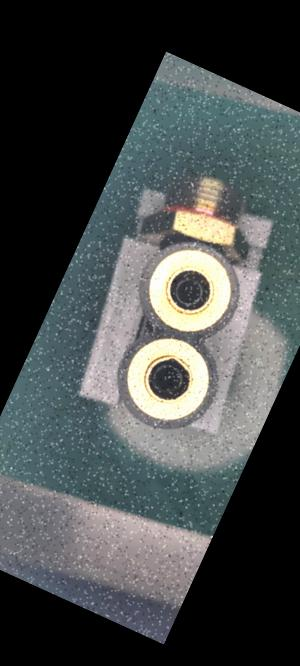bump: (162, 347, 191, 369)
off-centered: (141, 358, 189, 402)
